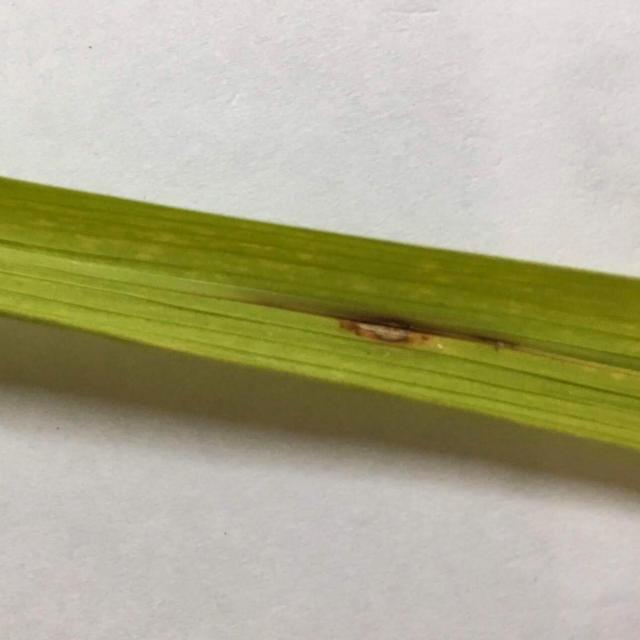Leaf blast: (0, 167, 640, 486)
